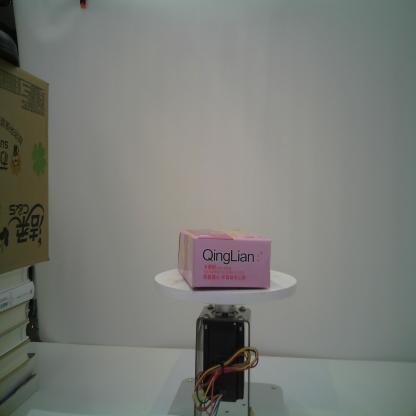Dessert: (176, 228, 273, 290)
